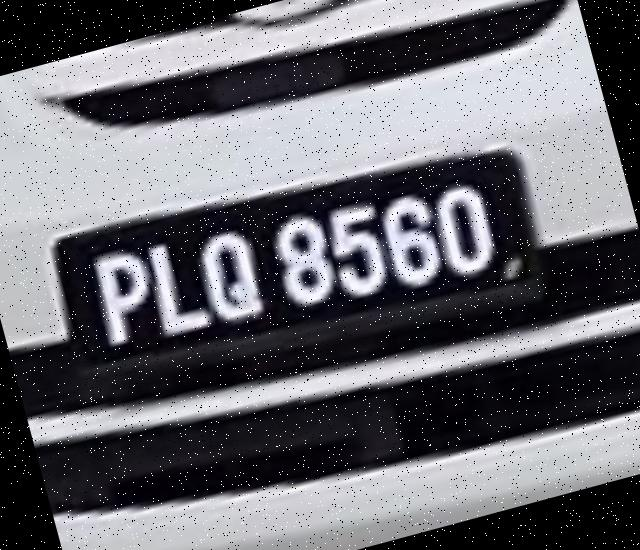License_Plate: (46, 118, 556, 425)
